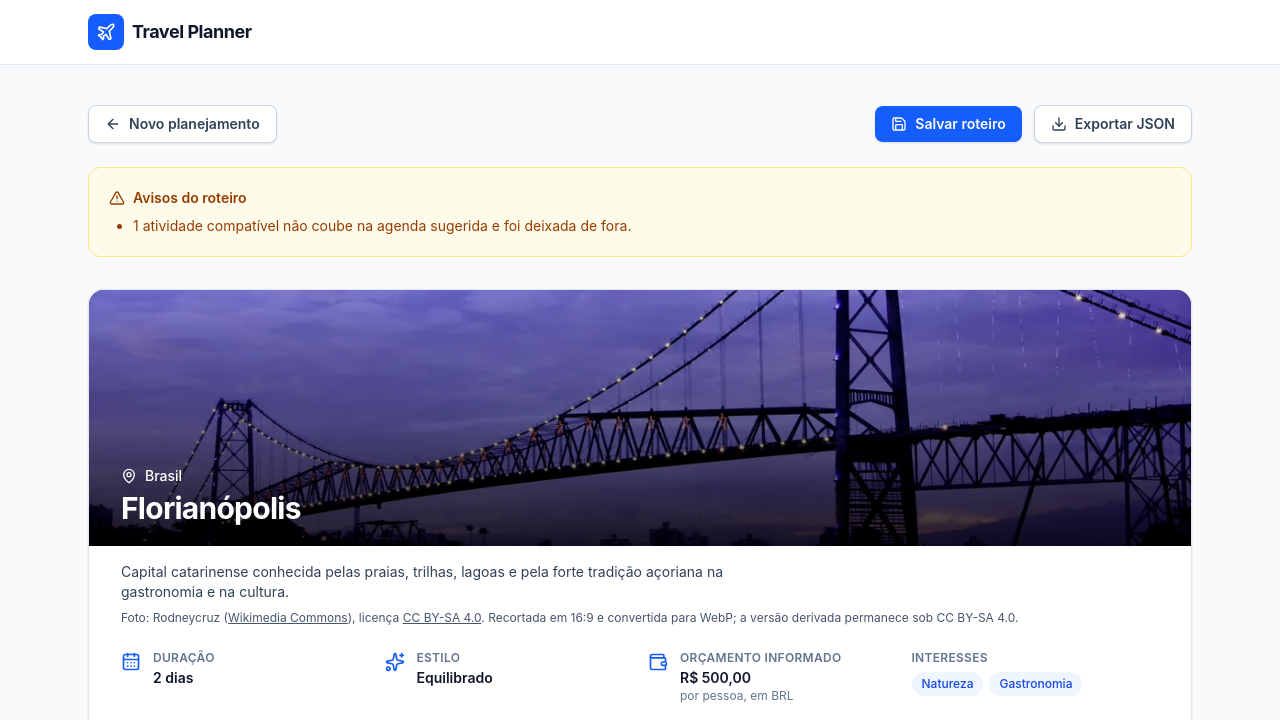
Scenario: ItineraryPage — interações de persistência (P3) › armazenamento indisponível ao salvar: falha sem nenhuma tentativa de escrita
Click the button "Salvar roteiro" at (949, 124), box [875, 106, 1022, 142]
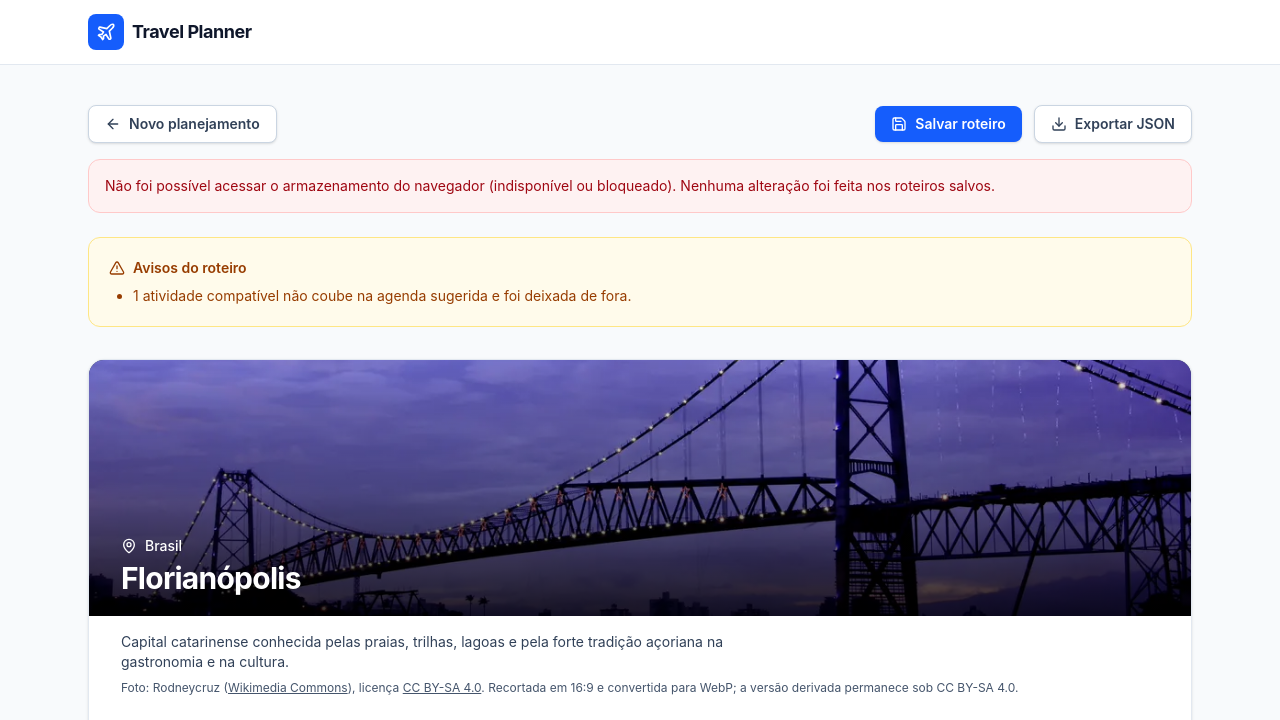
Expected: the text "Não foi possível acessar o armazenamento" is shown, [105, 177, 995, 194]
